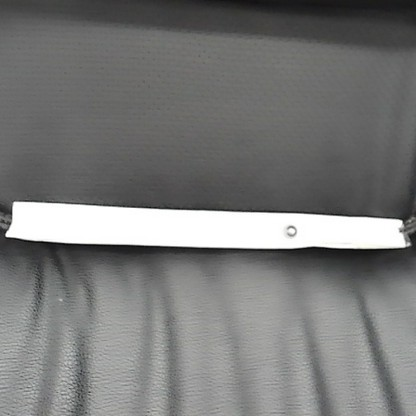ironball: (282, 221, 298, 239)
